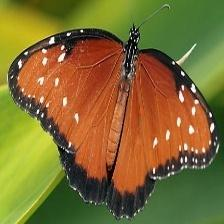butterfly: (8, 26, 218, 219)
